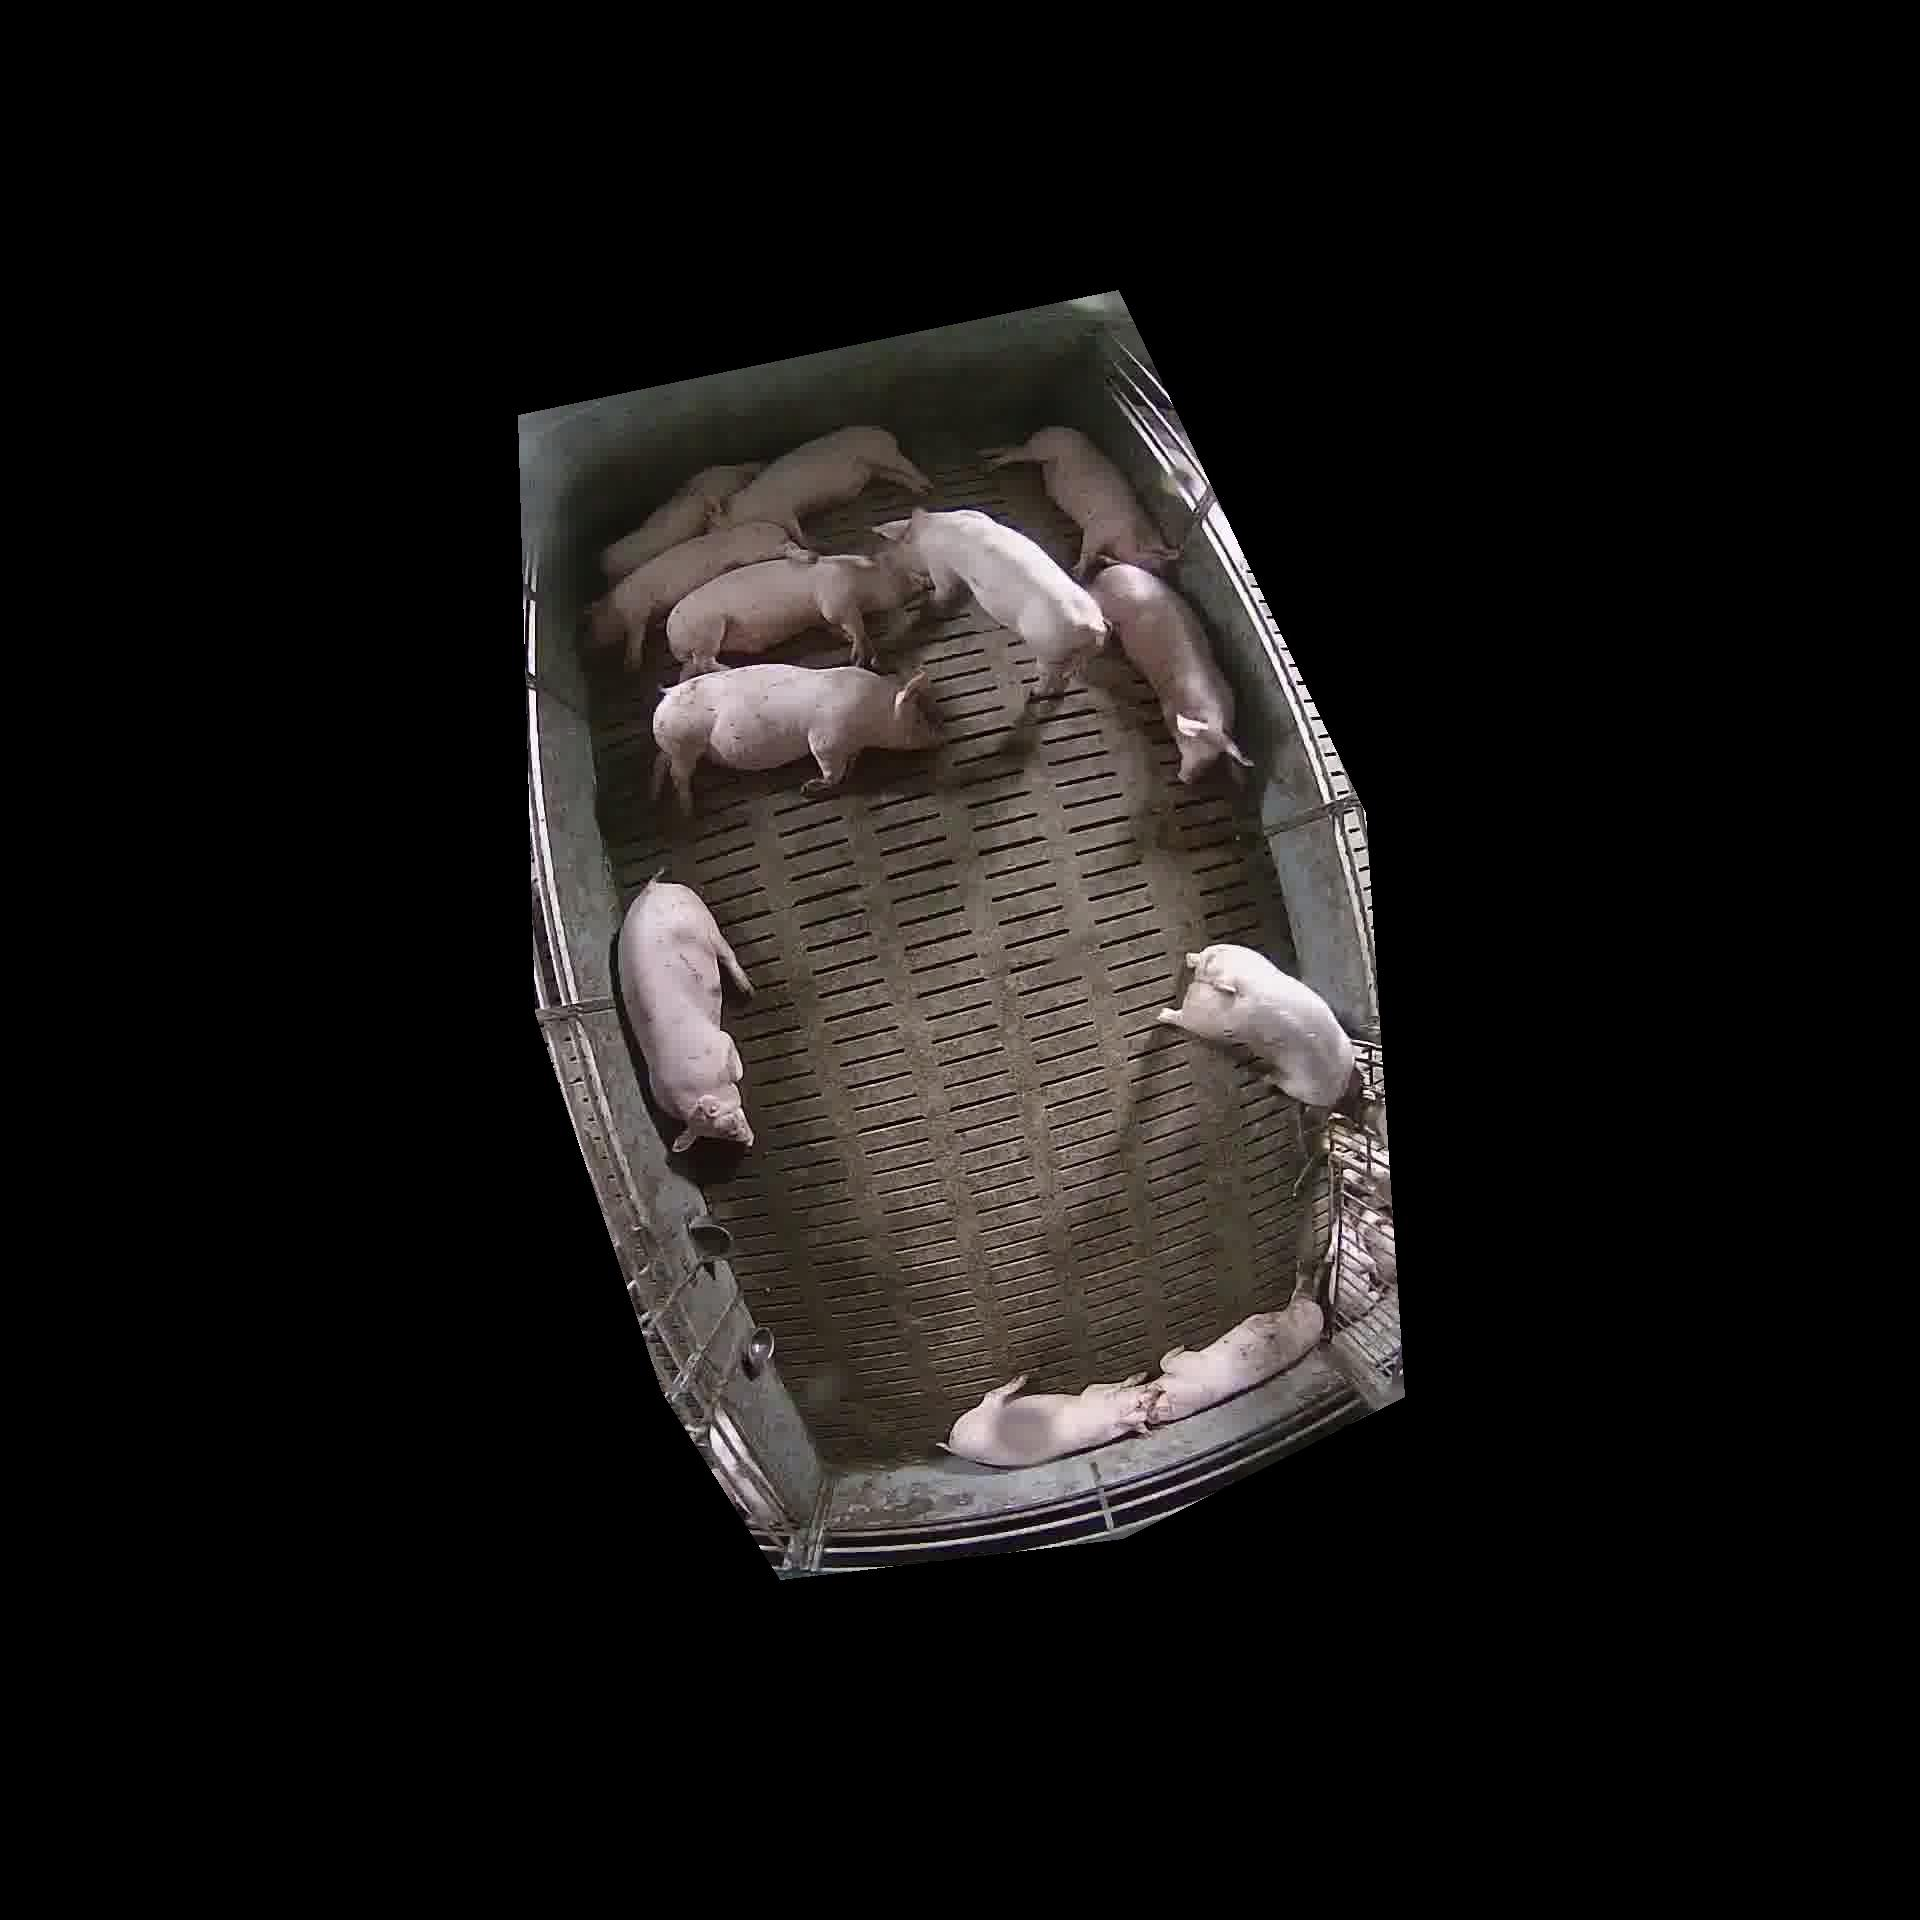pig: (876, 508, 1108, 700), (652, 665, 942, 812), (617, 879, 753, 1152), (1088, 563, 1254, 779), (666, 556, 927, 679), (587, 522, 805, 668), (1159, 944, 1354, 1106), (985, 425, 1173, 577), (716, 425, 930, 542), (1150, 1296, 1324, 1422), (600, 462, 761, 584), (948, 1375, 1155, 1466)
